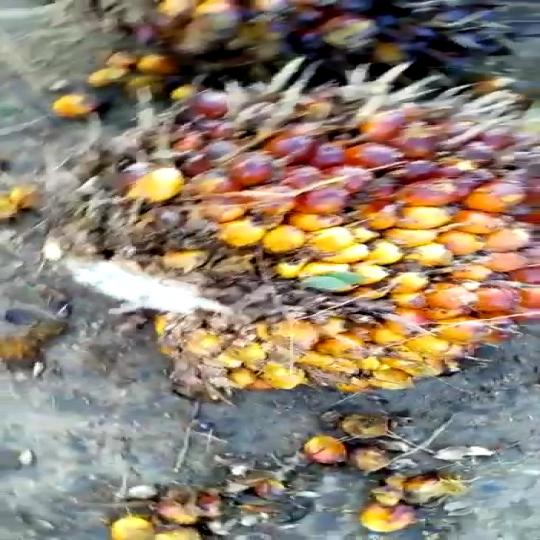masak: (71, 80, 540, 374)
